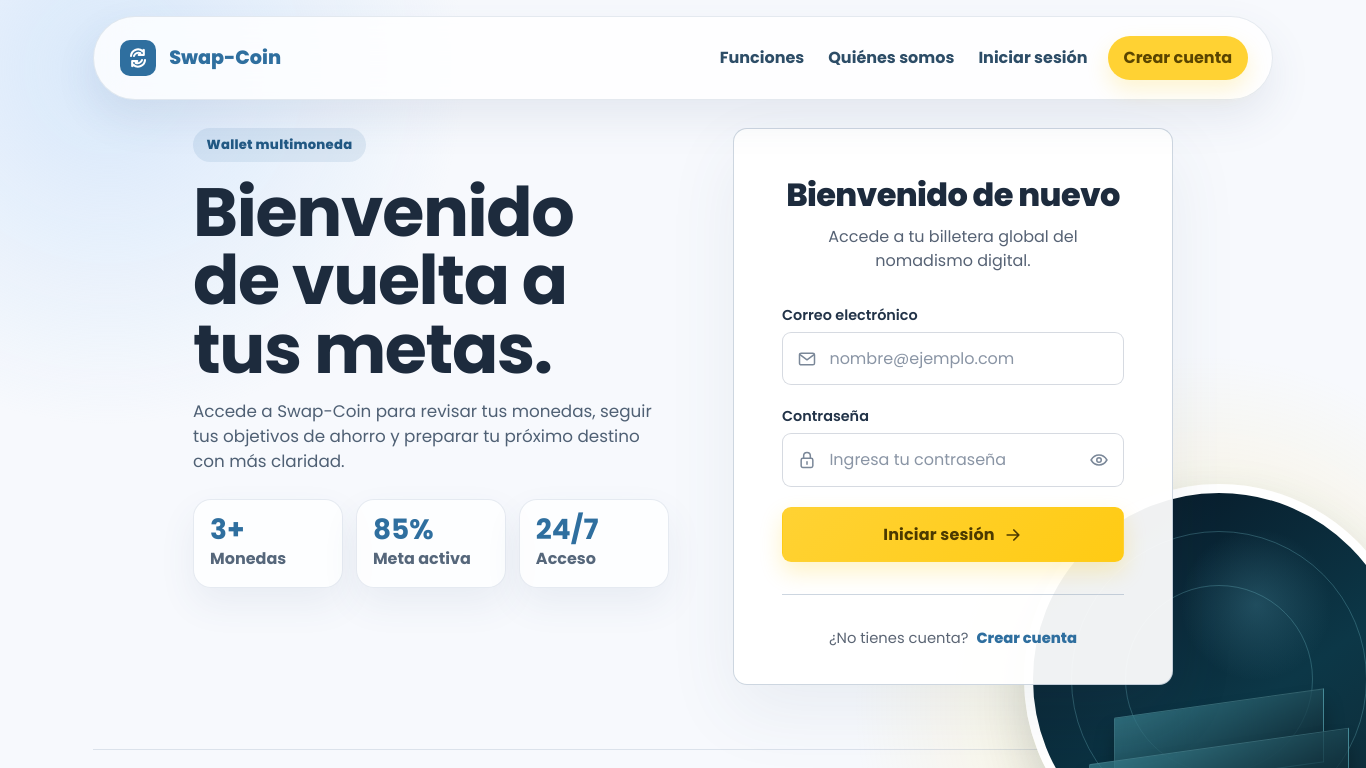
Test: LoginPage › shows API errors returned by auth context
Type "andres@example.com" into the field labelled "Correo electrónico" at {"x": 953, "y": 359}, box 782,332 -> 1124,385
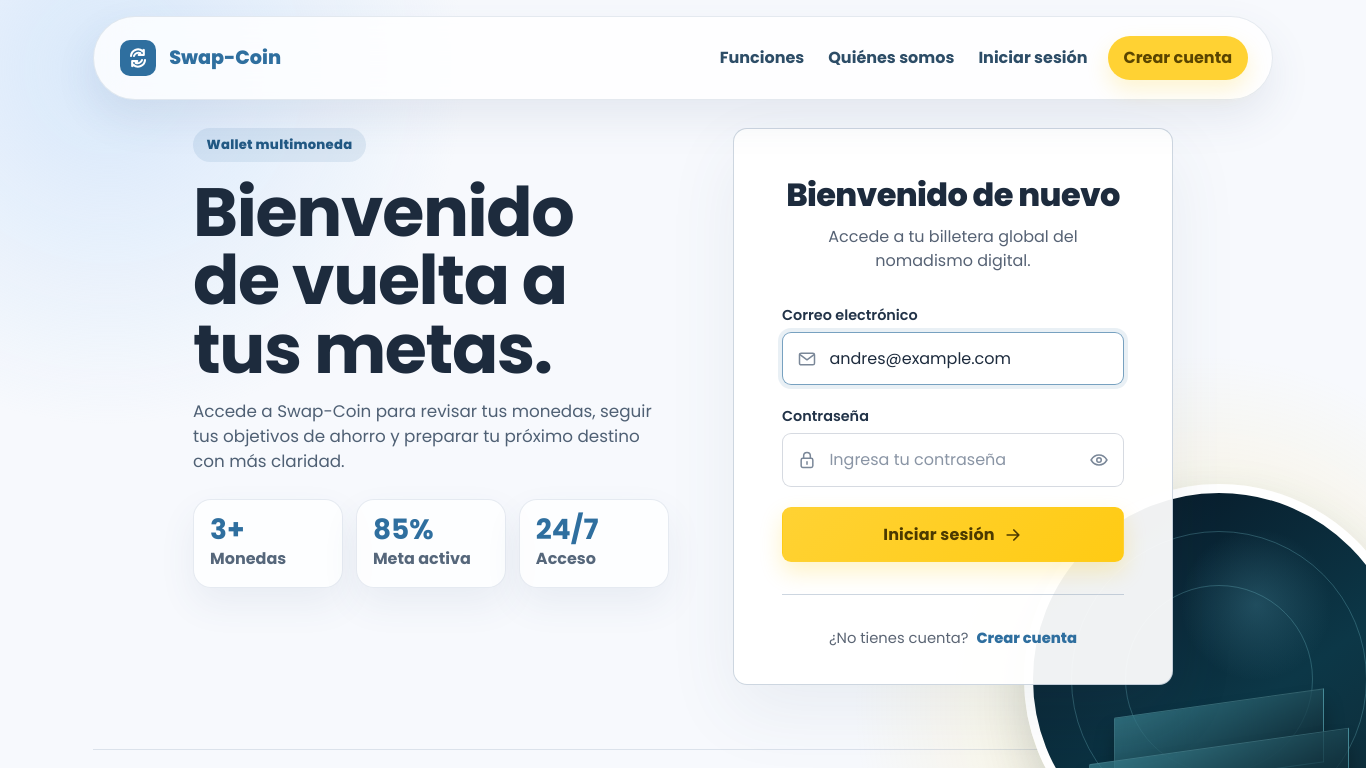
Type "Andres234." into the password field labelled "Contraseña" at {"x": 953, "y": 460}, box 782,433 -> 1124,487
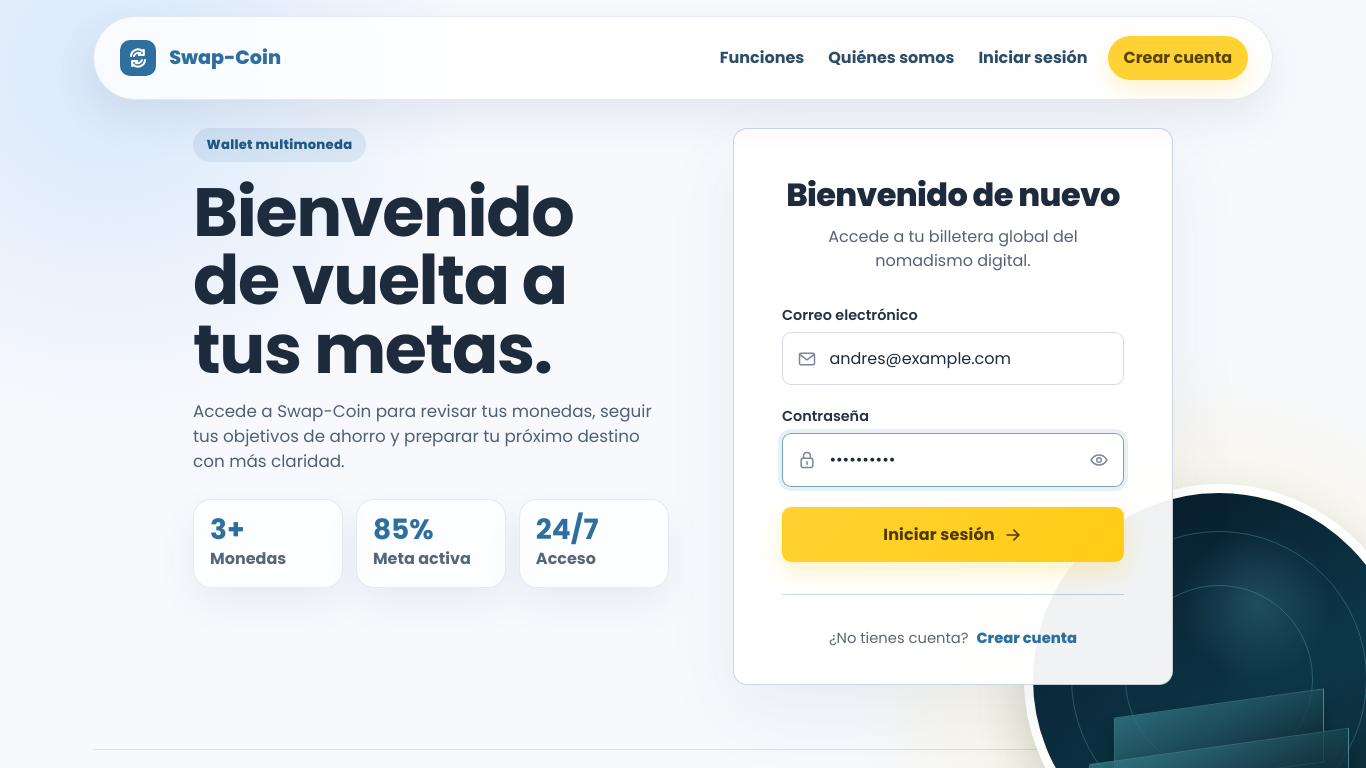
Click the button "Iniciar sesión" at {"x": 953, "y": 535}, box 782,507 -> 1124,562
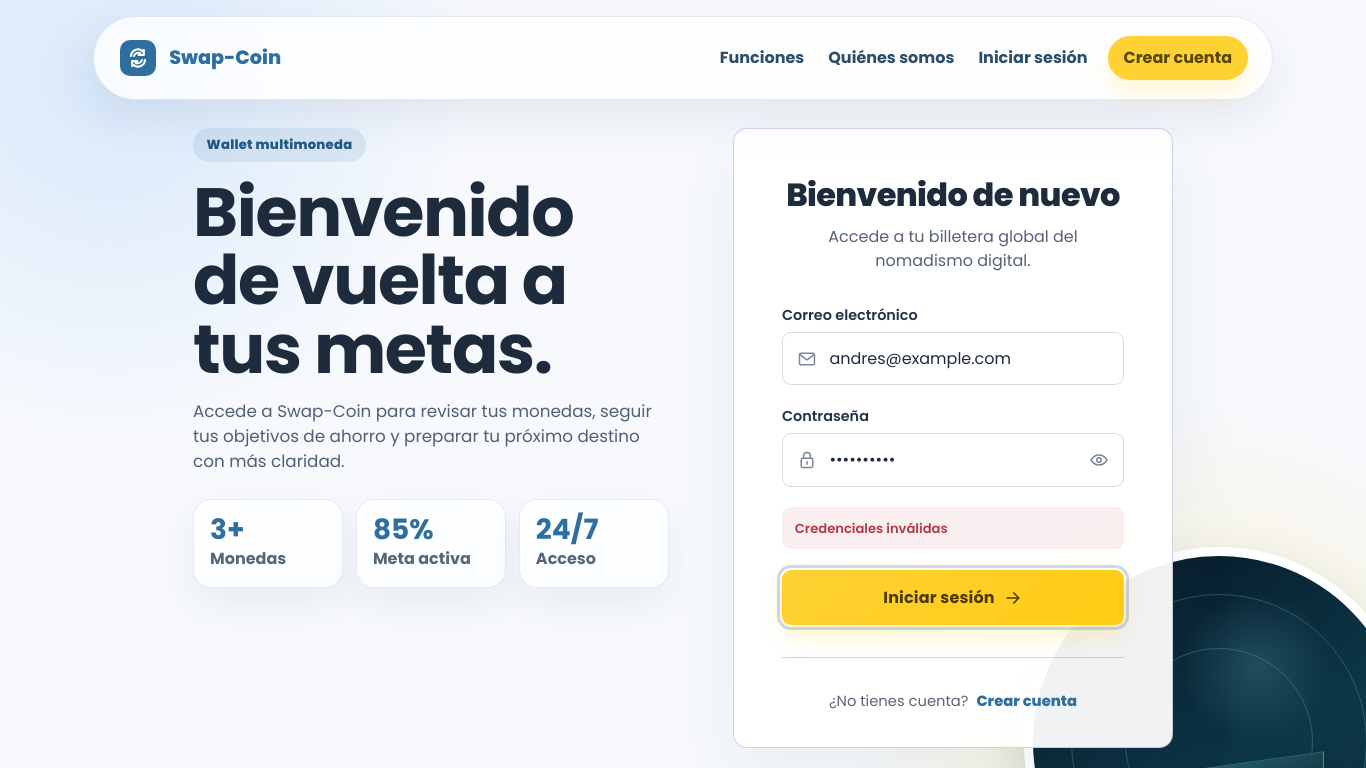
Expected: the message reads "Credenciales inválidas", 795,518 -> 948,538
